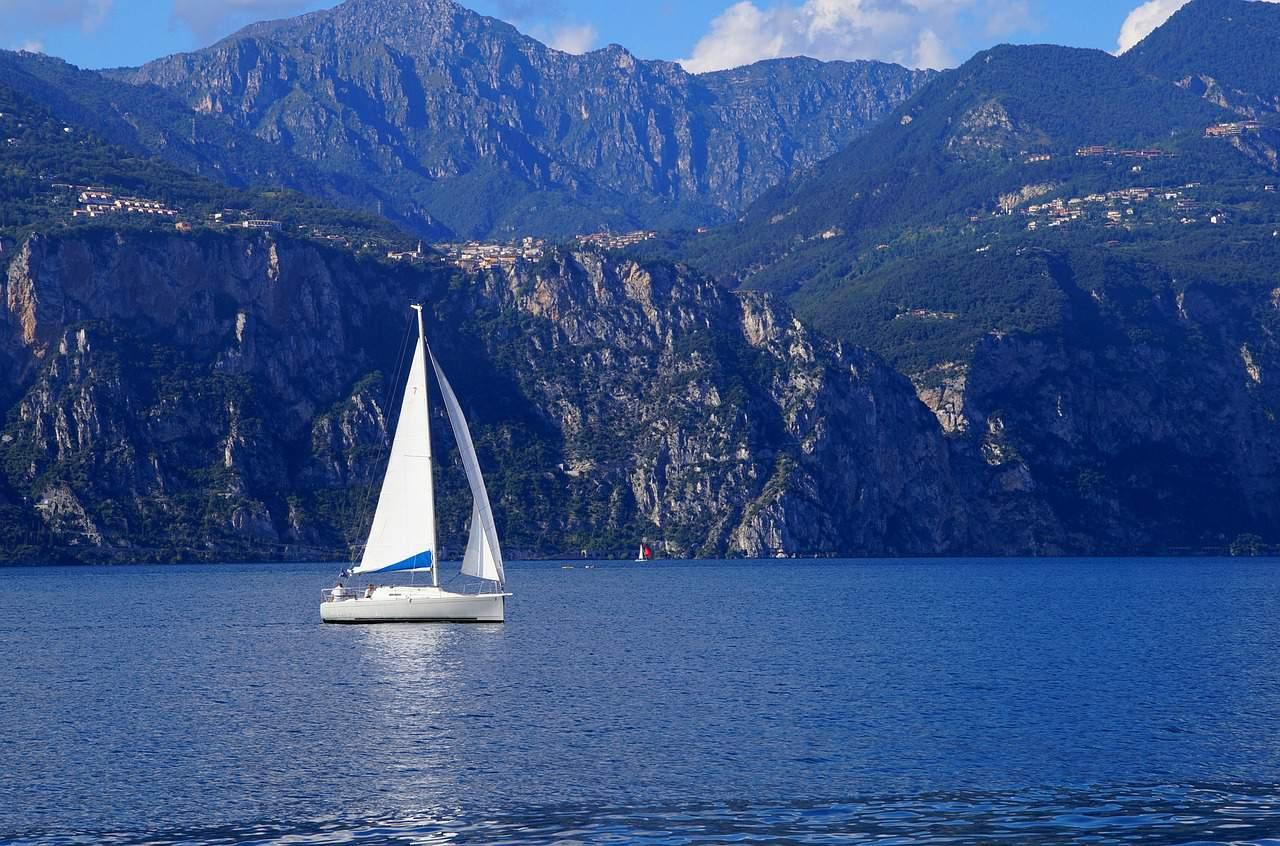Ship: (315, 302, 513, 629)
